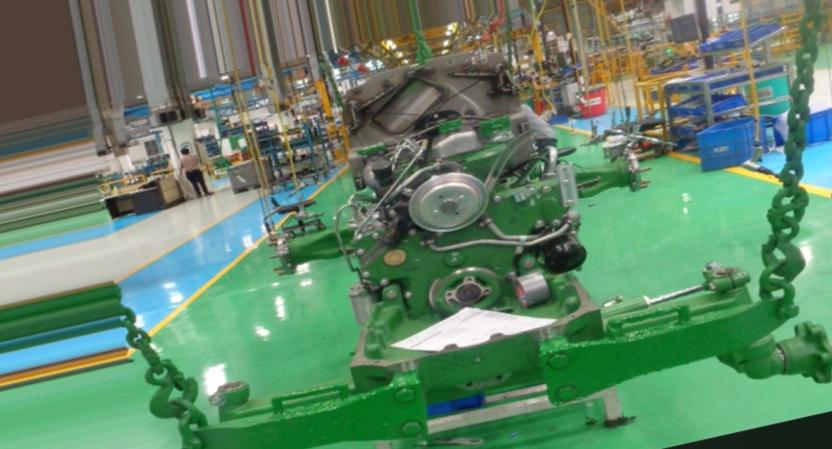engine: (153, 56, 825, 449)
